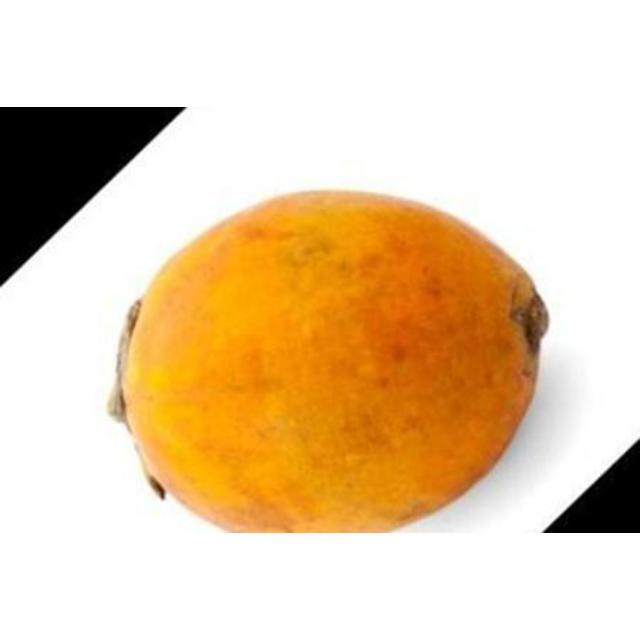good: (118, 189, 550, 532)
